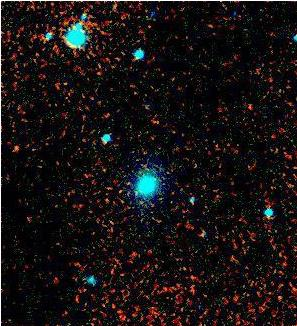star: (5, 129, 35, 159)
